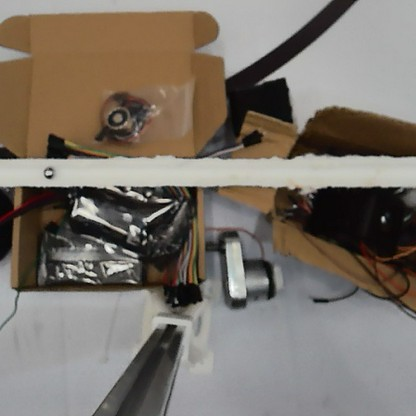ironball: (41, 164, 54, 180)
